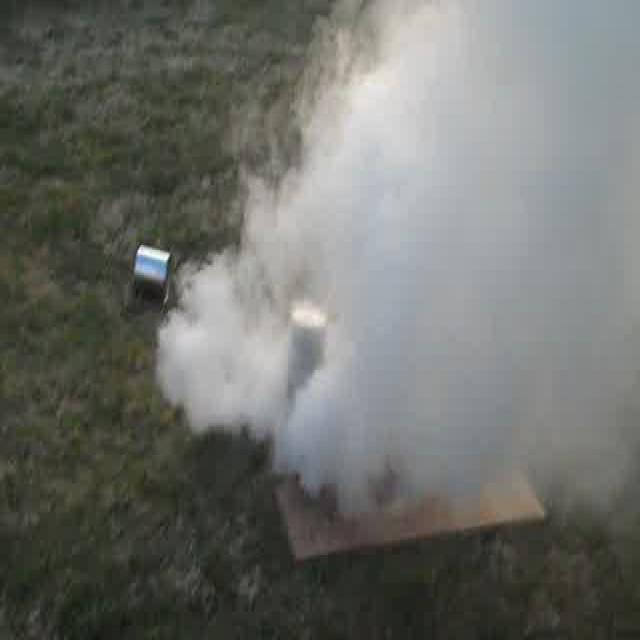Smoke: (302, 7, 638, 500)
